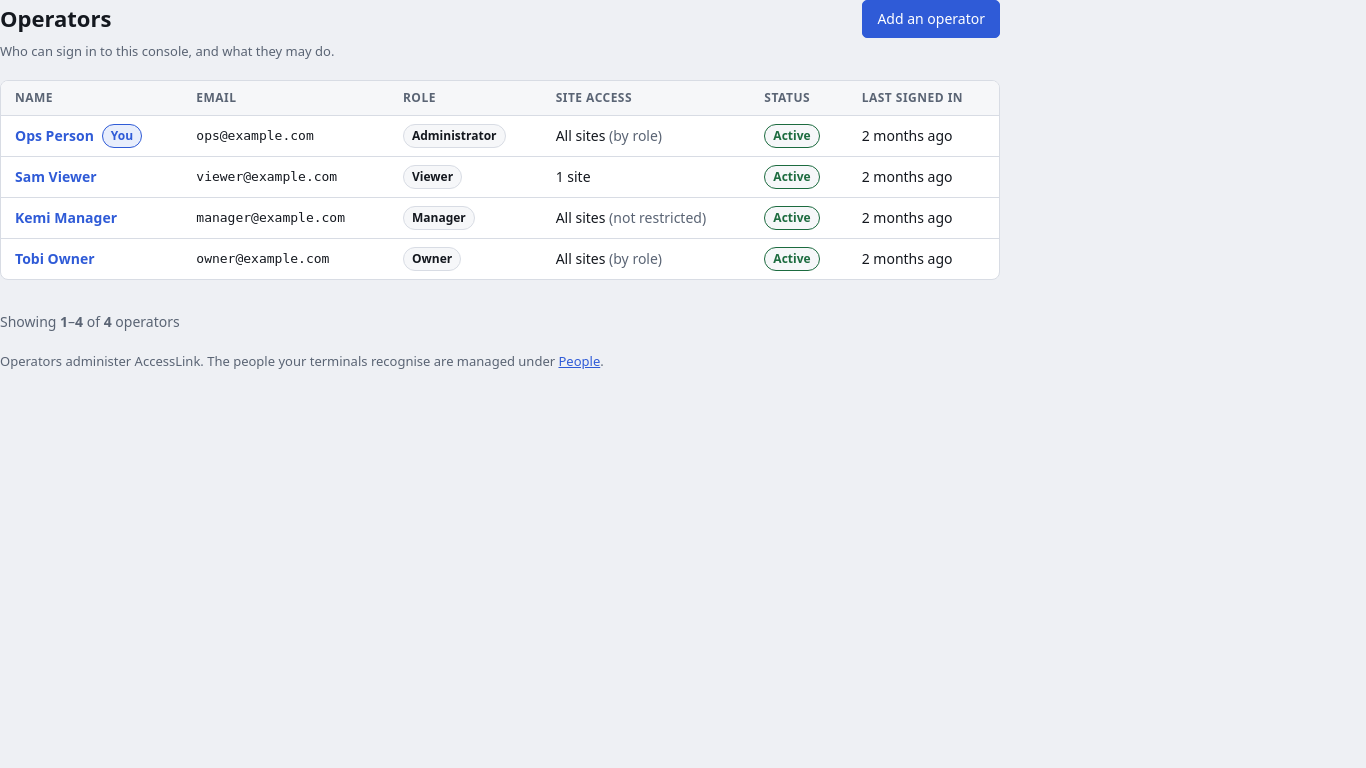
Scenario: the site picker does not guess while it is loading › DOES NOT CLAIM THE COMPANY HAS NO SITES WHILE THE REQUEST IS IN FLIGHT
What coordinates should you click on to do the following:
click the button "Add an operator"
I would click on:
 (931, 19)
Its box is [862,0,1000,38].
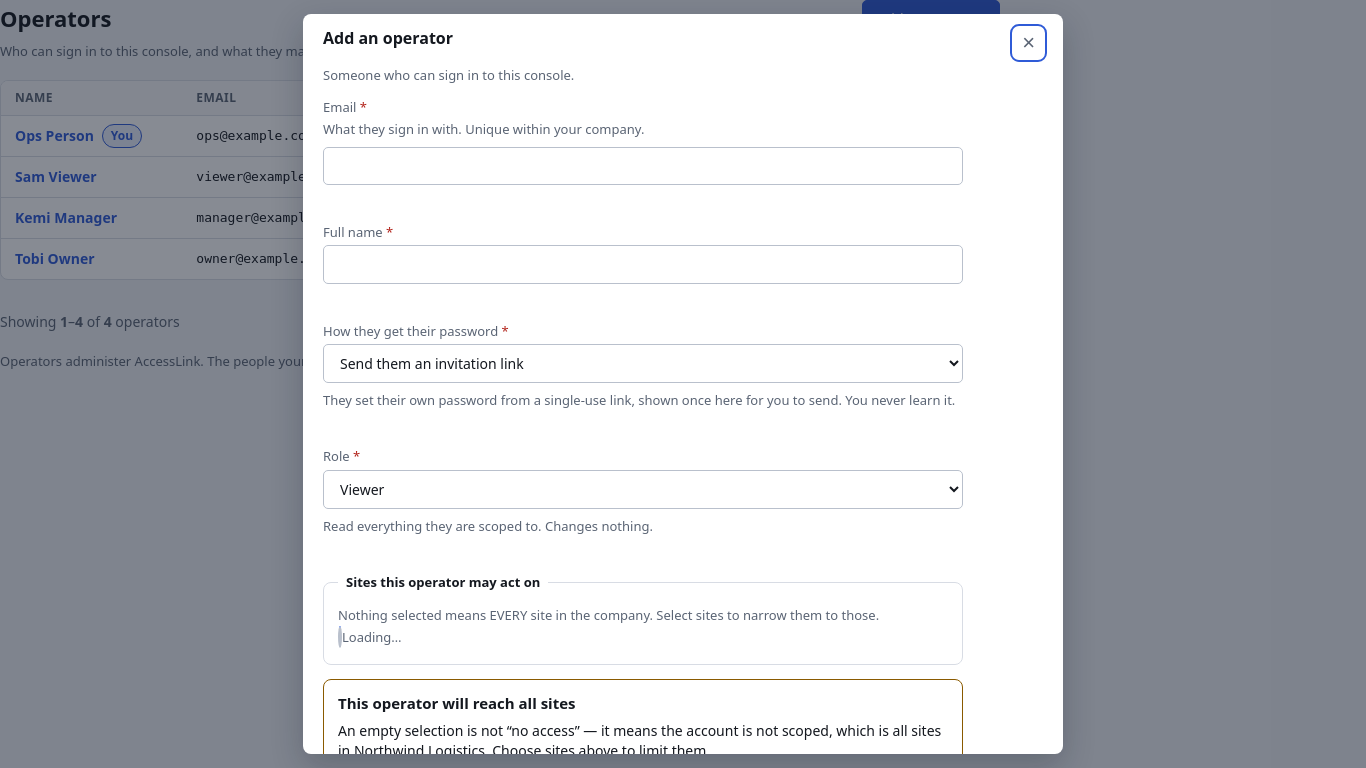
Expected: the text "Loading…" is shown, [338,626,402,648]
